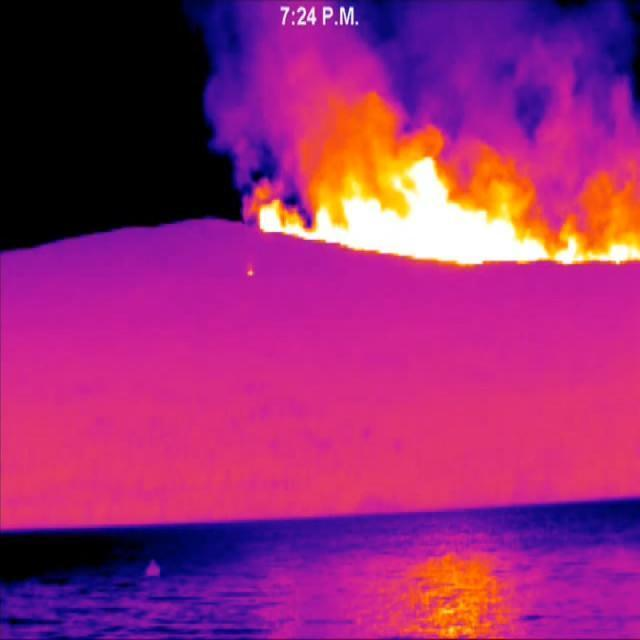fire: (254, 155, 640, 265)
